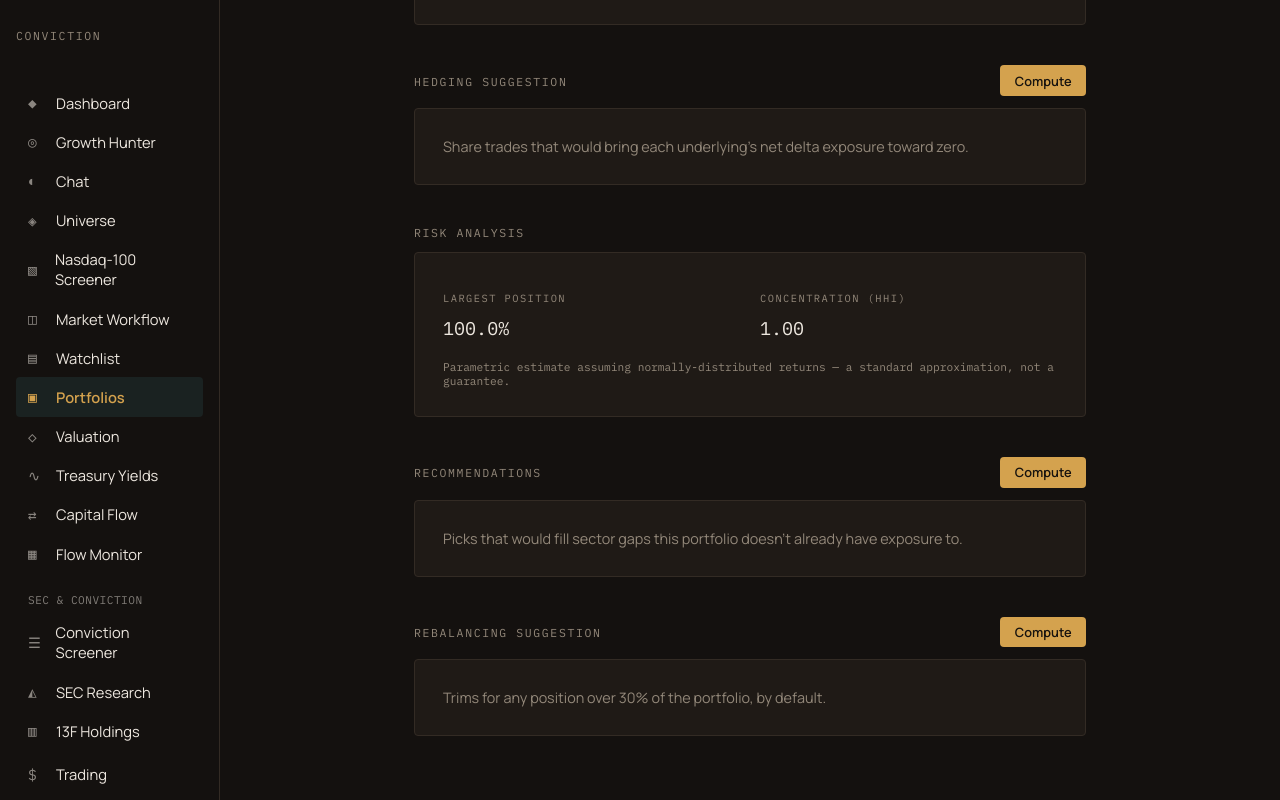
it: Portfolio detail page › clicking Compute on Rebalancing renders a real trim suggestion
(page scrolled)
Expected: the text "Rebalancing Suggestion" is shown, [414, 625, 602, 640]
Click the button "Compute" in the row of "Rebalancing Suggestion": (1043, 632) [1000, 616, 1086, 647]
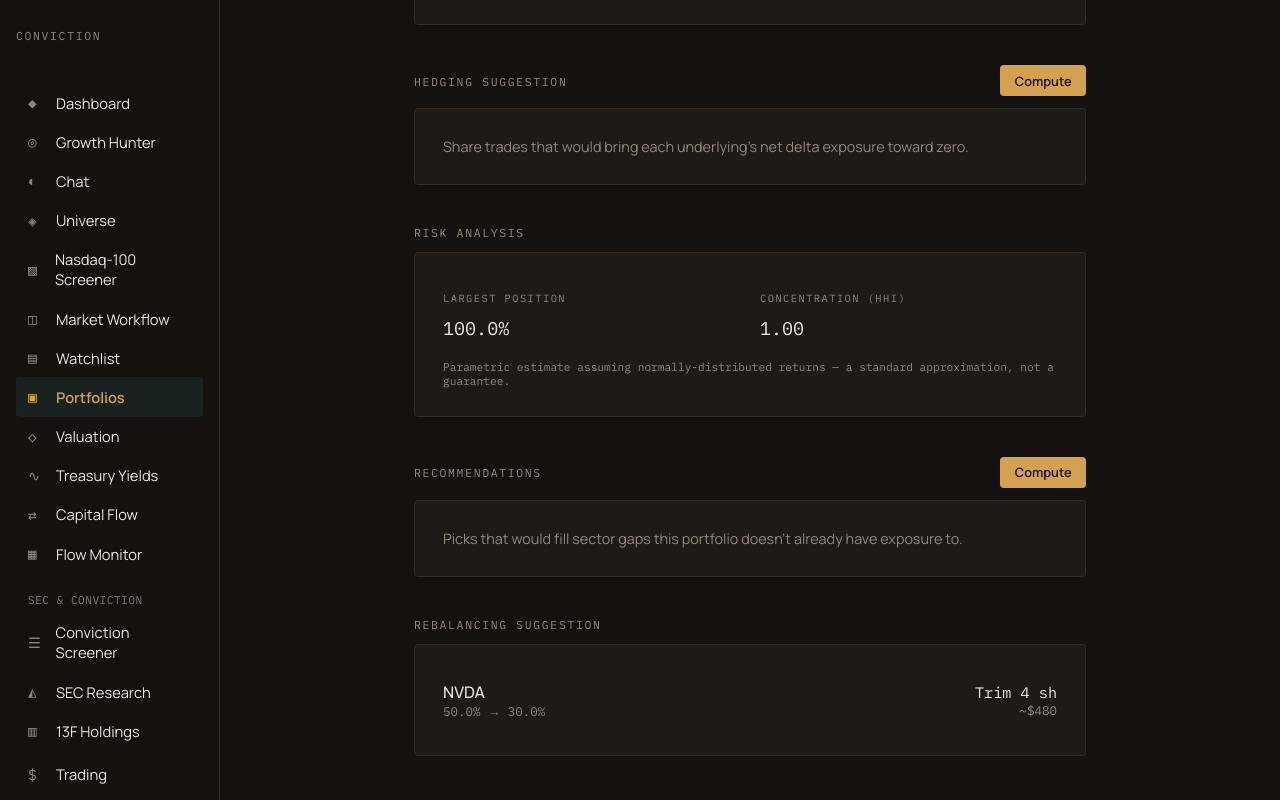
Now the text "Trim 4 sh" is shown, box [975, 682, 1057, 702]
